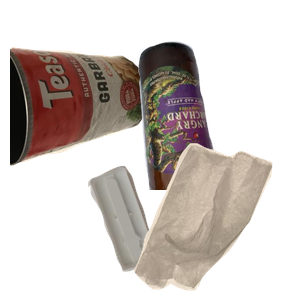glass: (136, 39, 300, 219)
metal: (10, 44, 151, 203)
plastic: (85, 163, 235, 300)
trash: (132, 140, 300, 300)
